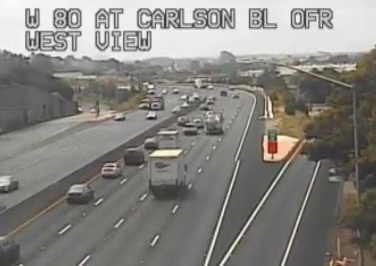car: (66, 184, 93, 203), (124, 148, 143, 164), (101, 163, 120, 178), (143, 138, 157, 149)
small-truck: (148, 149, 185, 193), (156, 131, 178, 149)
